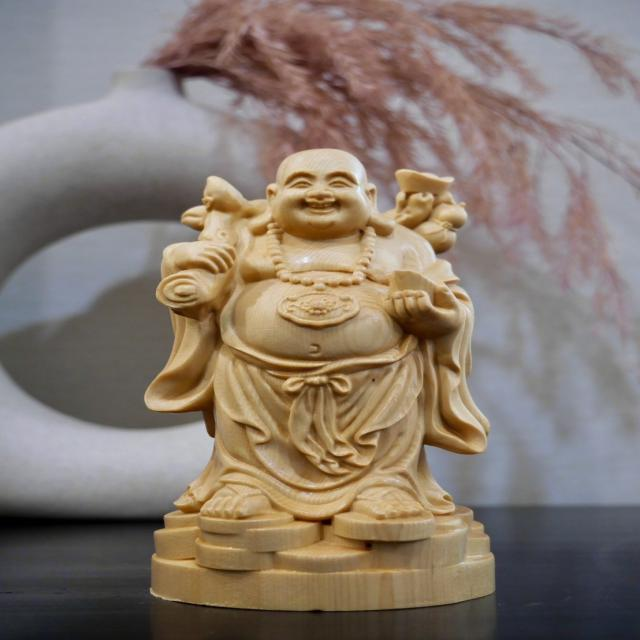Smiling Buddha: (147, 143, 491, 550)
